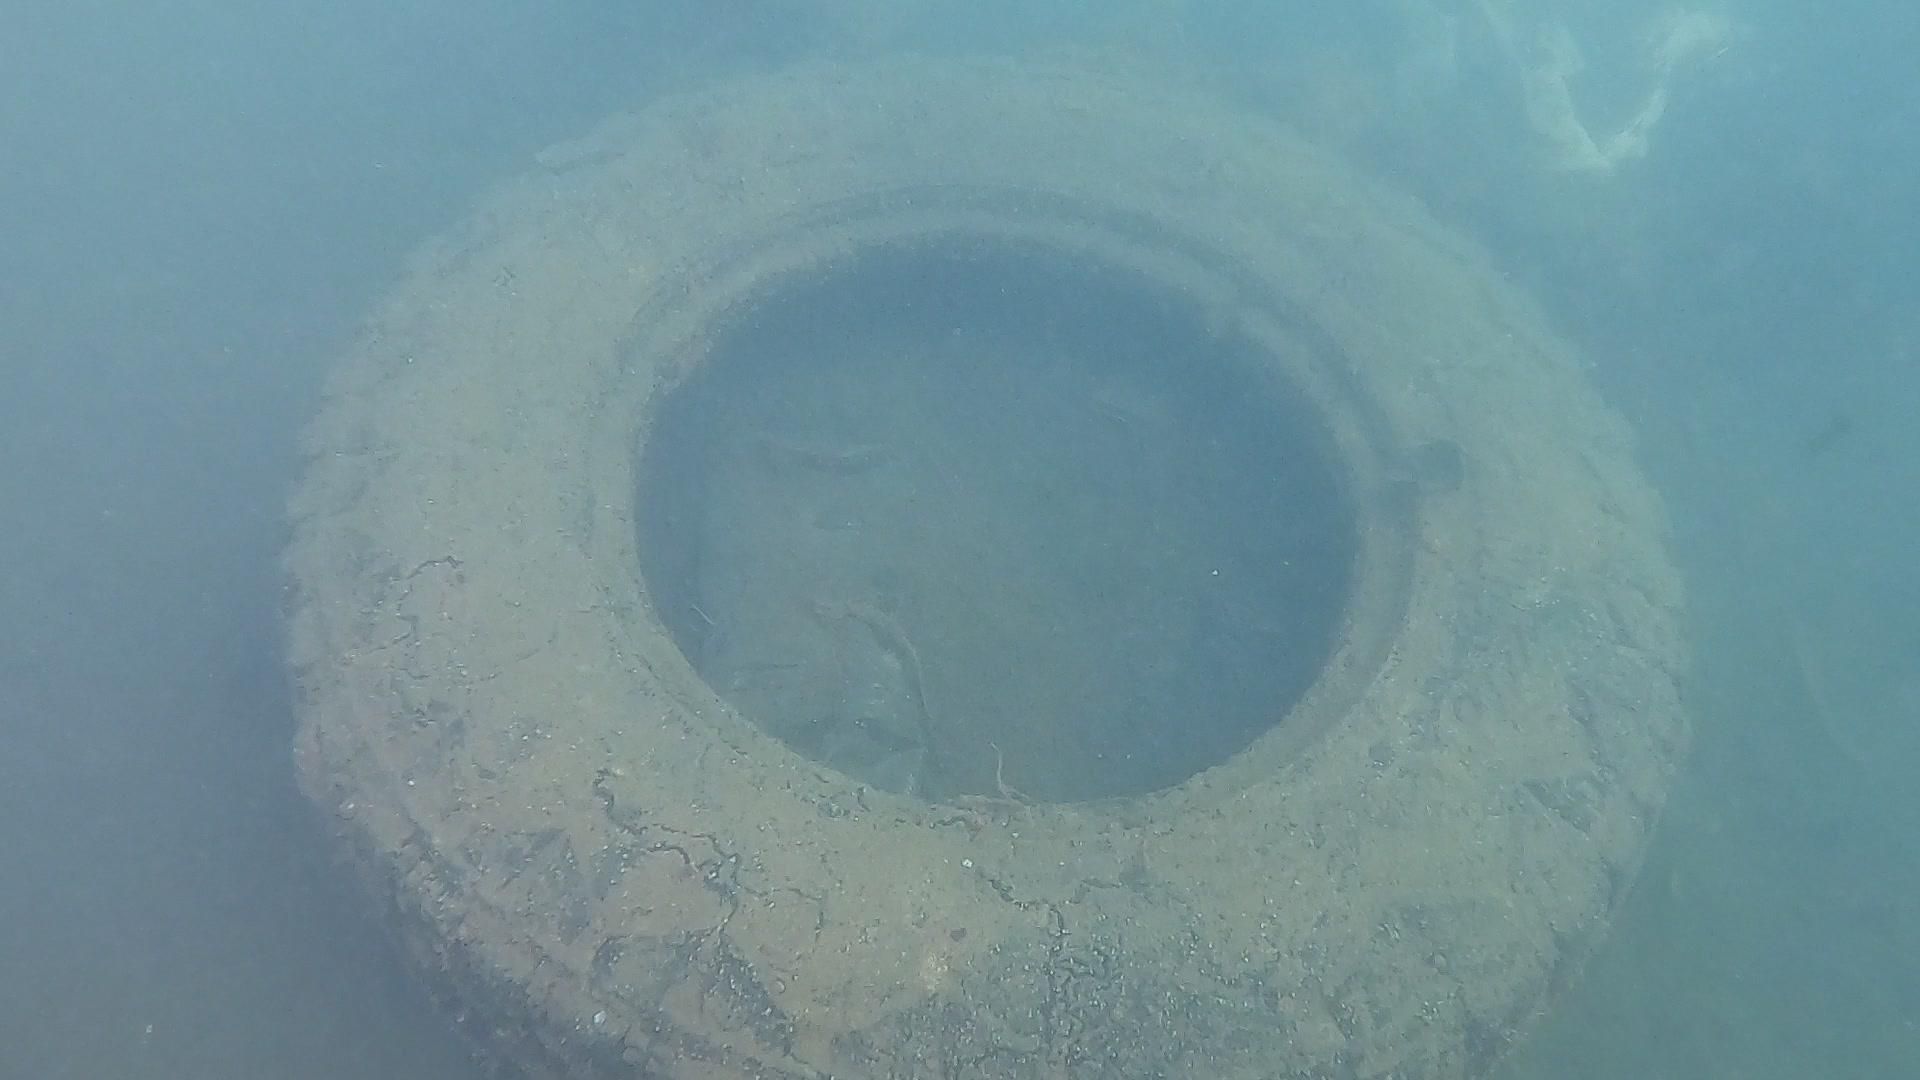tire: (266, 40, 1700, 1080)
